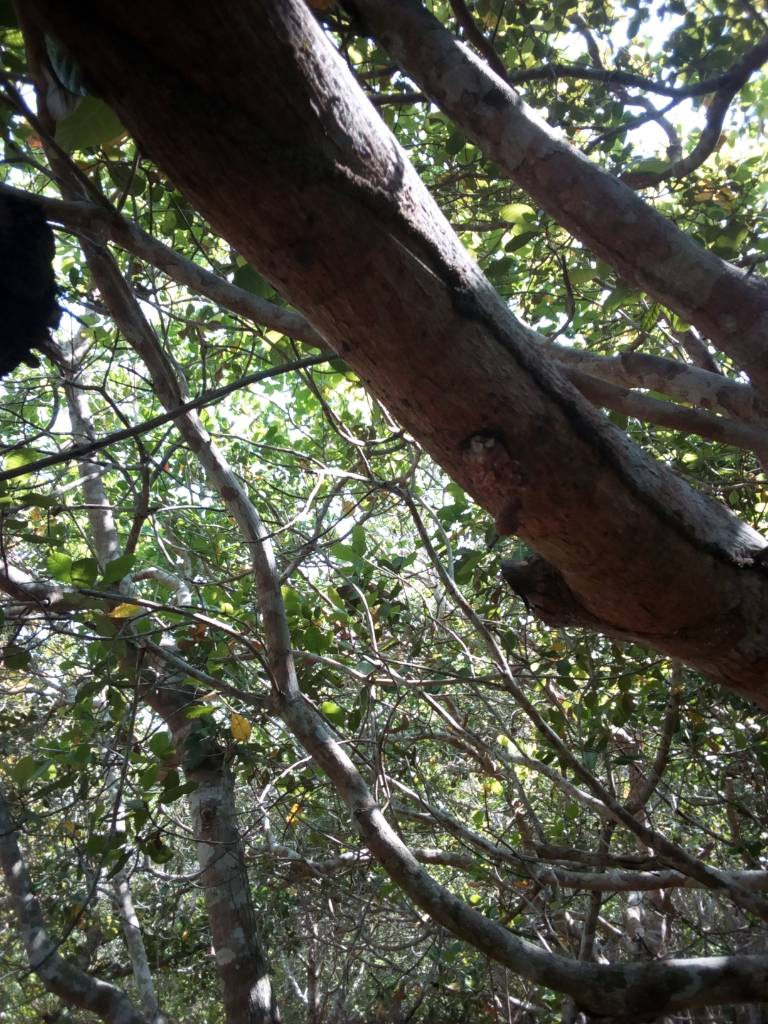Termites: (282, 97, 752, 572)
